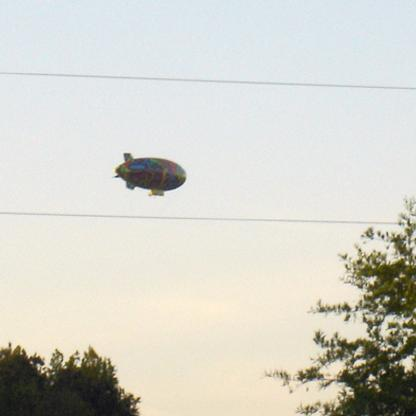Airship: (112, 151, 189, 202)
